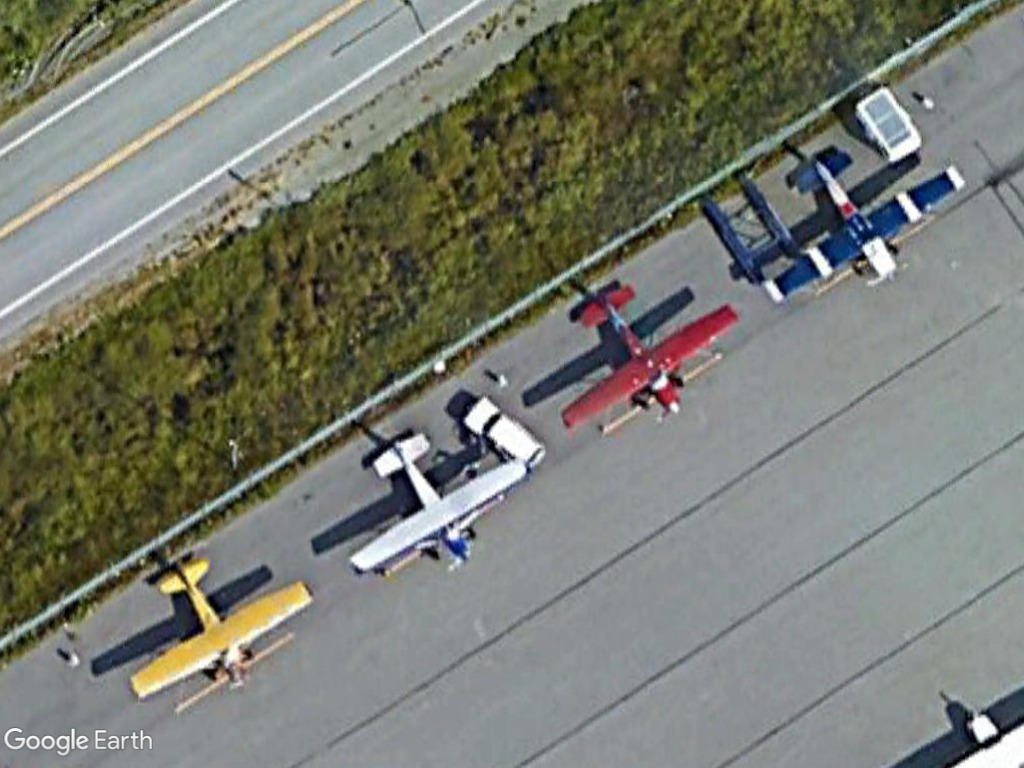car: (457, 393, 551, 475)
trainer: (761, 143, 960, 310), (114, 552, 318, 709), (556, 285, 738, 443), (351, 427, 535, 583)
